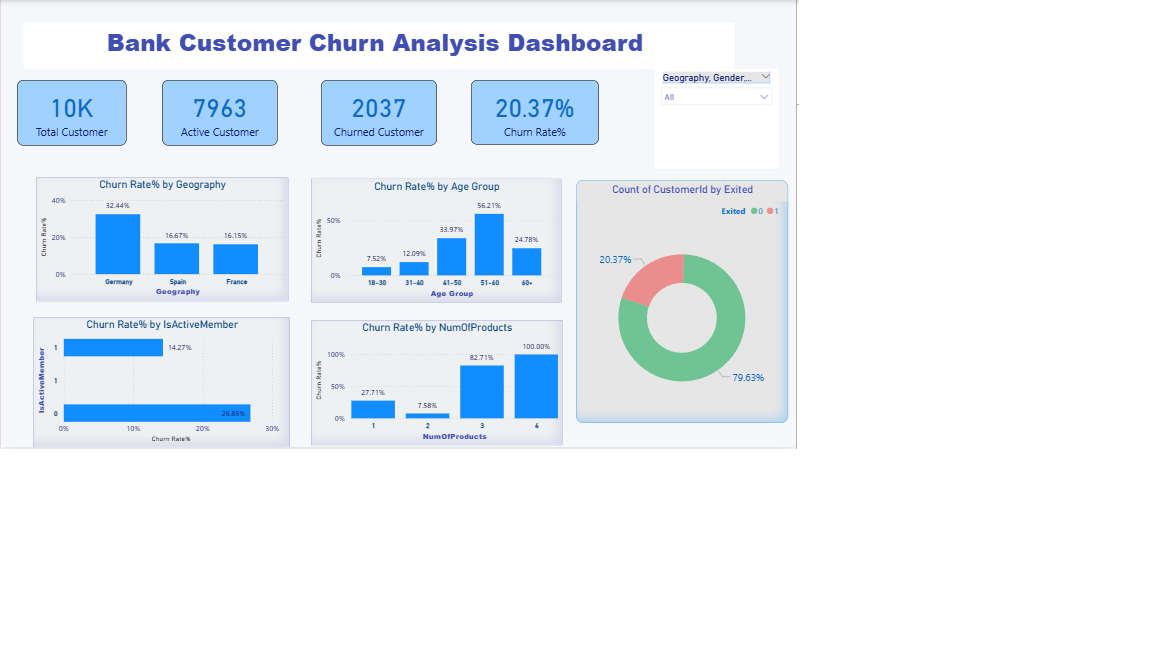

What the dashboard file says about the page in this screenshot:
{"tool":"powerbi","page":{"name":"Page 1","canvas":[1280,720],"ordinal":0},"visuals":[{"type":"card","fields":{"Values":["bank customer churn dataset.Total Customer"]},"box":[26.1,129,175.6,105.7],"z":0},{"type":"card","fields":{"Values":["bank customer churn dataset.Churned Customer"]},"box":[514.6,129,186.6,105.7],"z":1000},{"type":"card","fields":{"Values":["bank customer churn dataset.Active Customer"]},"box":[259.3,129,185.2,105.7],"z":2000},{"type":"card","fields":{"Values":["bank customer churn dataset.Churn Rate%"]},"box":[756.1,129,205.8,104.3],"z":3000},{"type":"clusteredColumnChart","fields":{"Category":["bank customer churn dataset.Geography"],"Y":["bank customer churn dataset.Churn Rate%"]},"box":[56.3,285.4,406.2,199],"z":4000},{"type":"clusteredColumnChart","fields":{"Category":["bank customer churn dataset.Age Group"],"Y":["bank customer churn dataset.Churn Rate%"]},"box":[499.5,286.8,403.4,199],"z":5000},{"type":"clusteredBarChart","fields":{"Category":["bank customer churn dataset.IsActiveMember"],"Y":["bank customer churn dataset.Churn Rate%"]},"box":[52.1,511.8,413,208.6],"z":6000},{"type":"columnChart","fields":{"Category":["bank customer churn dataset.NumOfProducts"],"Y":["bank customer churn dataset.Churn Rate%"]},"box":[499.5,514.6,404.8,201.7],"z":7000},{"type":"slicer","fields":{"Values":["bank customer churn dataset.Geography","bank customer churn dataset.Gender","bank customer churn dataset.HasCrCard"]},"box":[1052.5,109.8,199,161.9],"z":8000},{"type":"textbox","box":[35.7,35.7,1144.3,74.3],"z":9000},{"type":"donutChart","fields":{"Category":["bank customer churn dataset.Exited"],"Y":["CountNonNull(bank customer churn dataset.CustomerId)"]},"box":[924.9,289.5,341.7,391.1],"z":10000}]}

Visuals, with their boxes in screenshot pixels (x1, y1, x2, y2), scaled from the page's 1280x720 canvas onto the 1152x648 screenshot:
card - bank customer churn dataset.Total Customer: (23,116,182,211)
card - bank customer churn dataset.Churned Customer: (463,116,631,211)
card - bank customer churn dataset.Active Customer: (233,116,400,211)
card - bank customer churn dataset.Churn Rate%: (680,116,866,210)
clusteredColumnChart - bank customer churn dataset.Geography x bank customer churn dataset.Churn Rate%: (51,257,416,436)
clusteredColumnChart - bank customer churn dataset.Age Group x bank customer churn dataset.Churn Rate%: (450,258,813,437)
clusteredBarChart - bank customer churn dataset.IsActiveMember x bank customer churn dataset.Churn Rate%: (47,461,419,647)
columnChart - bank customer churn dataset.NumOfProducts x bank customer churn dataset.Churn Rate%: (450,463,814,645)
slicer - bank customer churn dataset.Geography x bank customer churn dataset.Gender: (947,99,1126,245)
textbox: (32,32,1062,99)
donutChart - bank customer churn dataset.Exited x CountNonNull(bank customer churn dataset.CustomerId): (832,261,1140,613)
